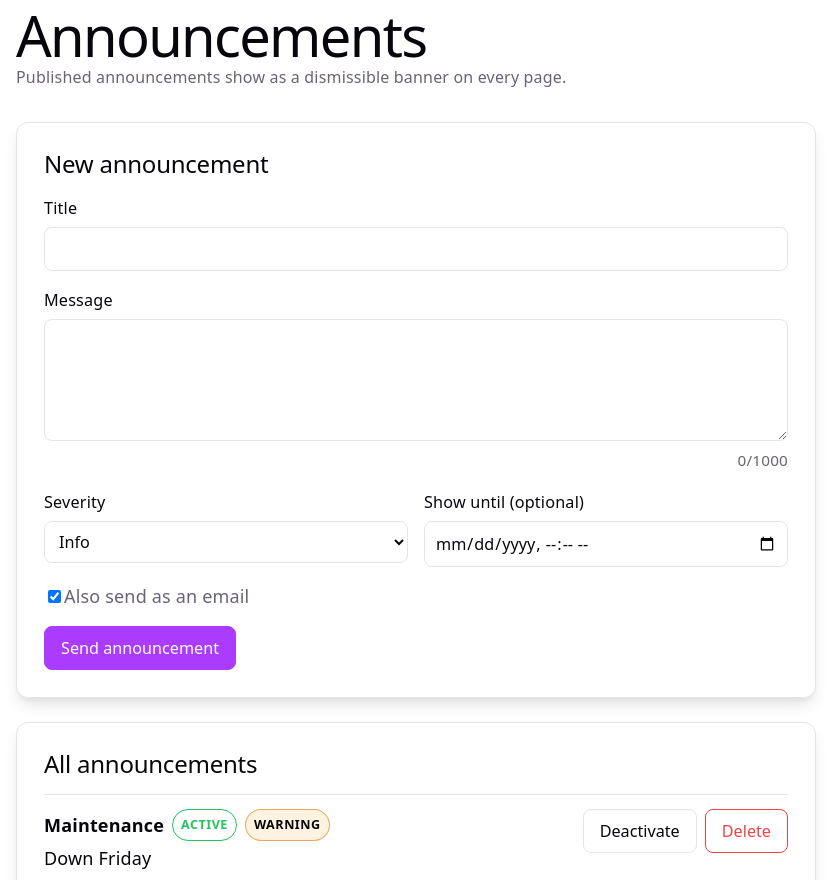
it: AdminAnnouncements › shows the server error when sending fails
The width and height of the screenshot is (833, 880).
Expected: the text "Maintenance" is shown, [44,812,164,838]
Type "Hi" into the field labelled "Title". click: (416, 249)
box: [44,227,788,271]
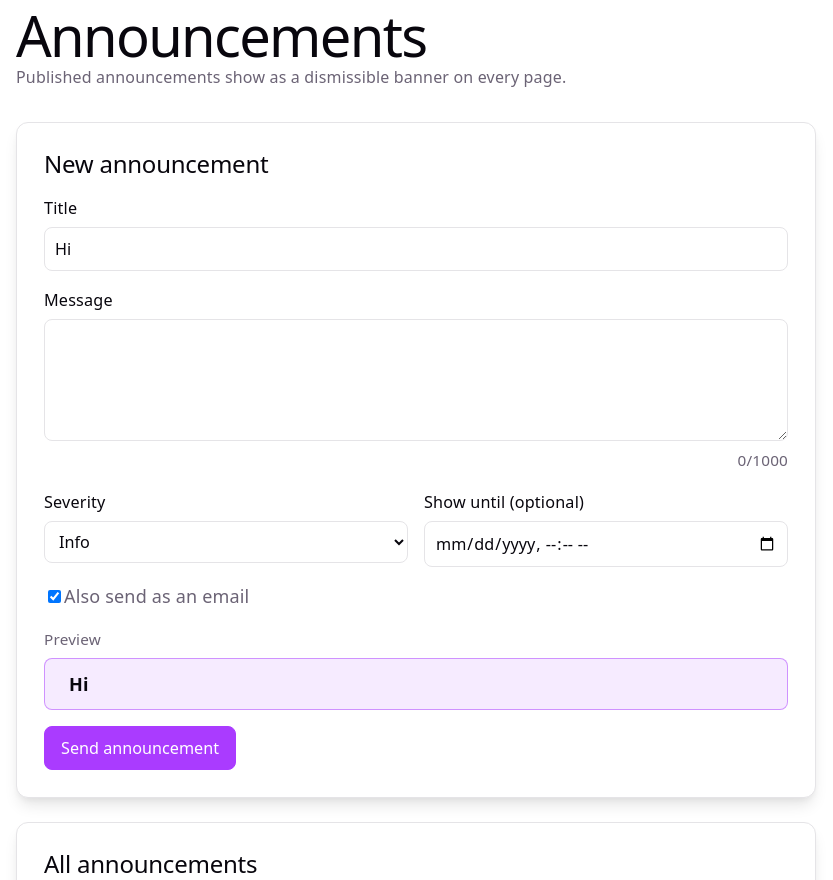
Type "There" into the text box labelled "Message". click: (416, 380)
box: [44,319,788,441]
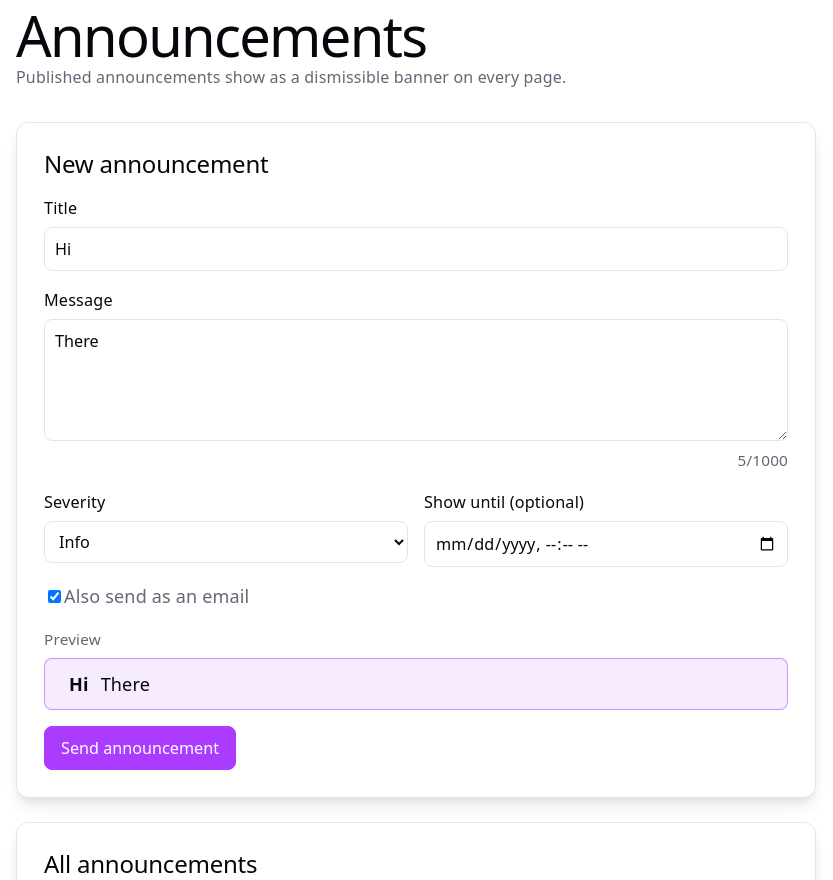
Click the button "Send announcement". click: (140, 748)
box: [44,726,236,770]
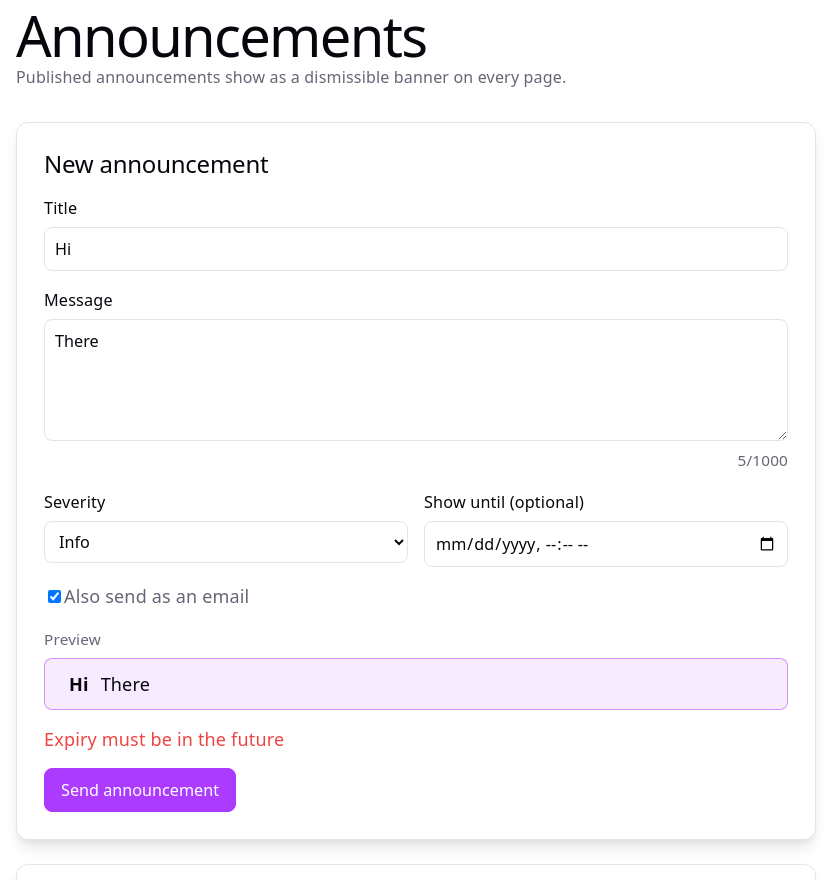
Expected: the text "Expiry must be in the future" is shown, [44,727,284,751]
